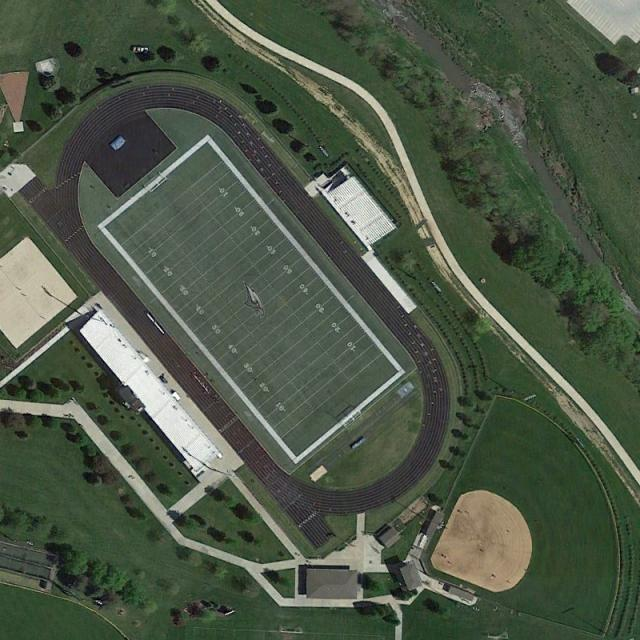vehicle: (132, 45, 148, 52)
